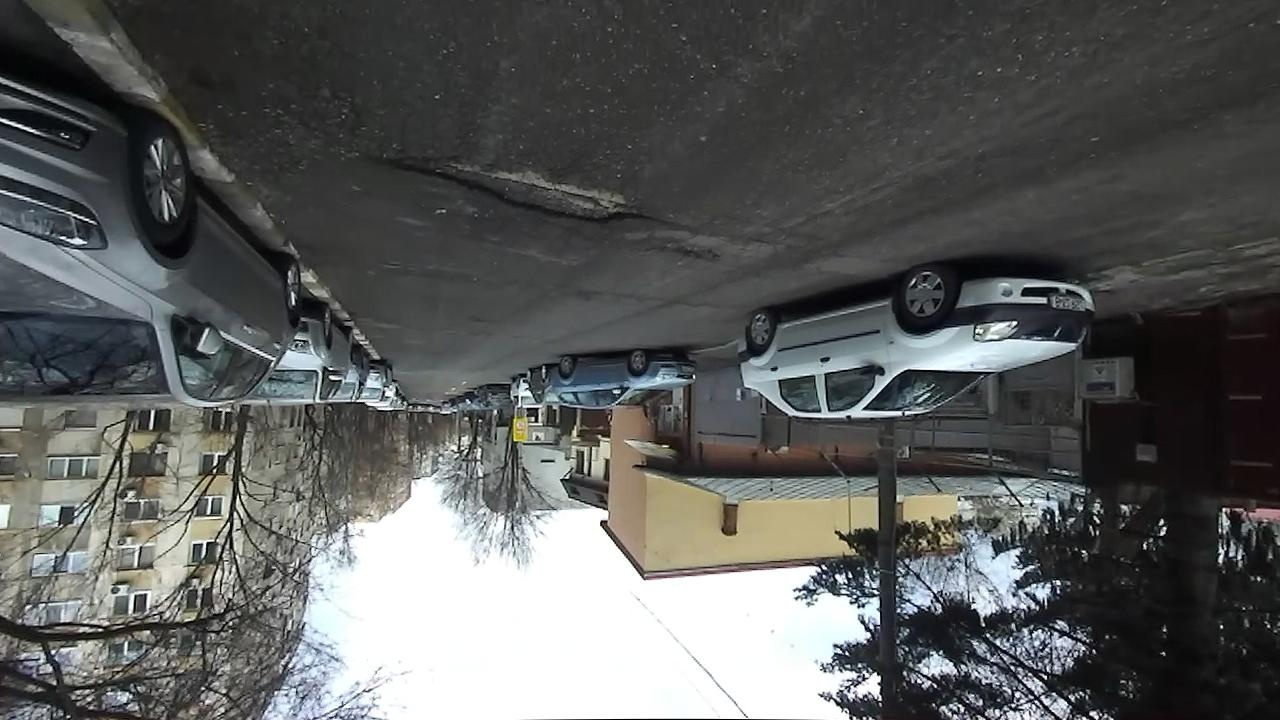pothole: (381, 159, 677, 226), (645, 238, 726, 267)
